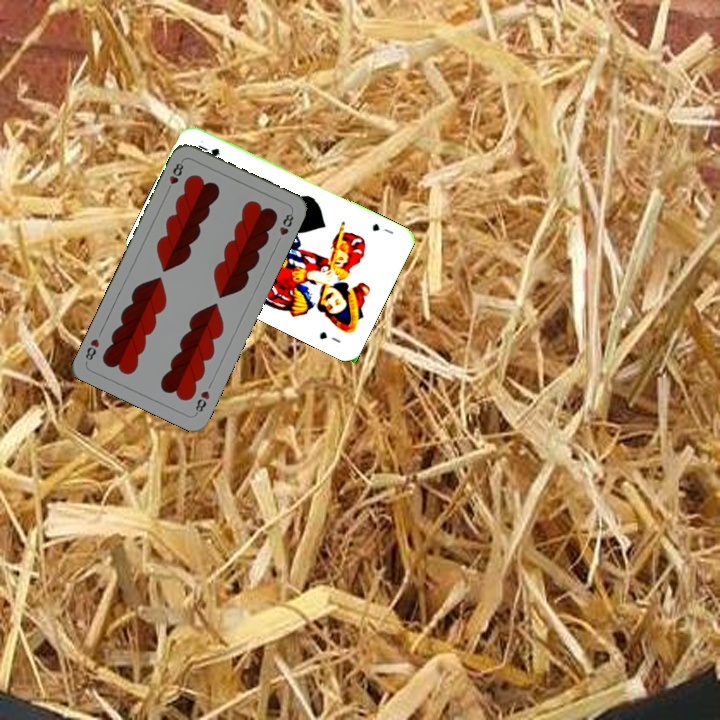GU: (368, 219, 396, 237)
H8: (163, 157, 186, 195), (191, 386, 212, 417)
